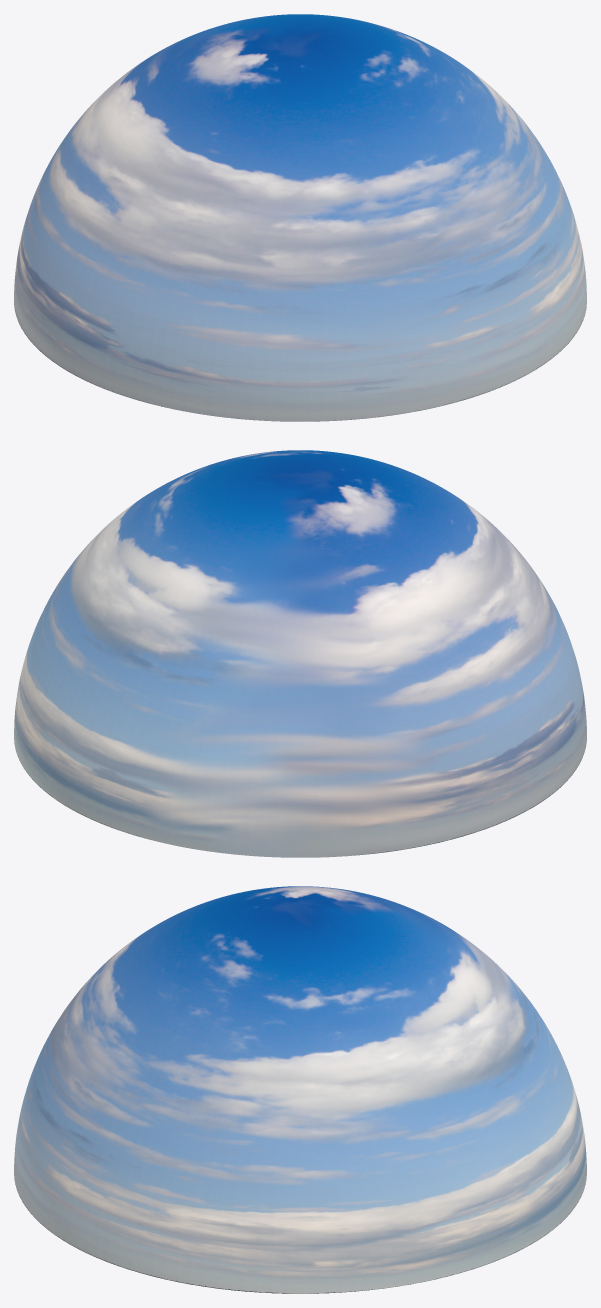
Rendered from skysphere2.glb.
The picture shows the model from 3 angles, top to bottom: view 1: azimuth 30°, elevation 25°; view 2: azimuth 150°, elevation 25°; view 3: azimuth 270°, elevation 25°; orthographic projection.
Visible parts, largest first — view 1: Sphere.001; view 2: Sphere.001; view 3: Sphere.001.
Boxes of the visible parts, box(x1,y1,x2,y2) form: Sphere.001: box(14, 14, 586, 421); Sphere.001: box(14, 450, 586, 857); Sphere.001: box(14, 886, 586, 1293).
Bounding box in the file's own units: 2 × 1 × 2.
1 material, 1 textured.
